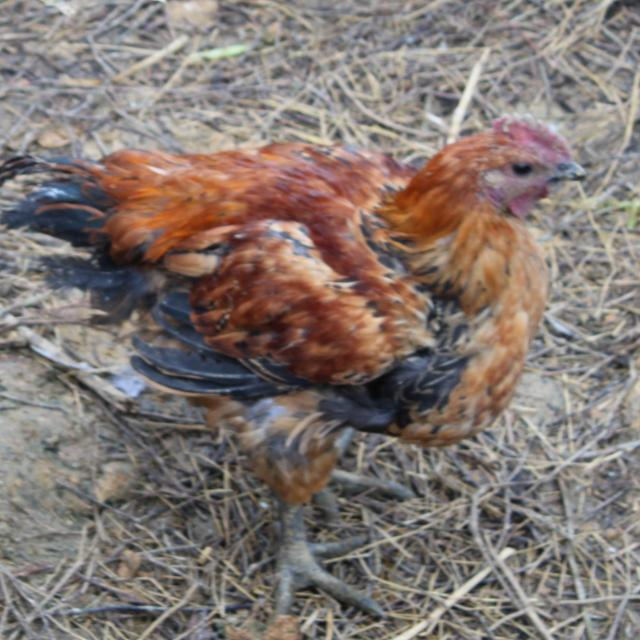hen: (0, 112, 617, 640), (151, 190, 454, 412)
